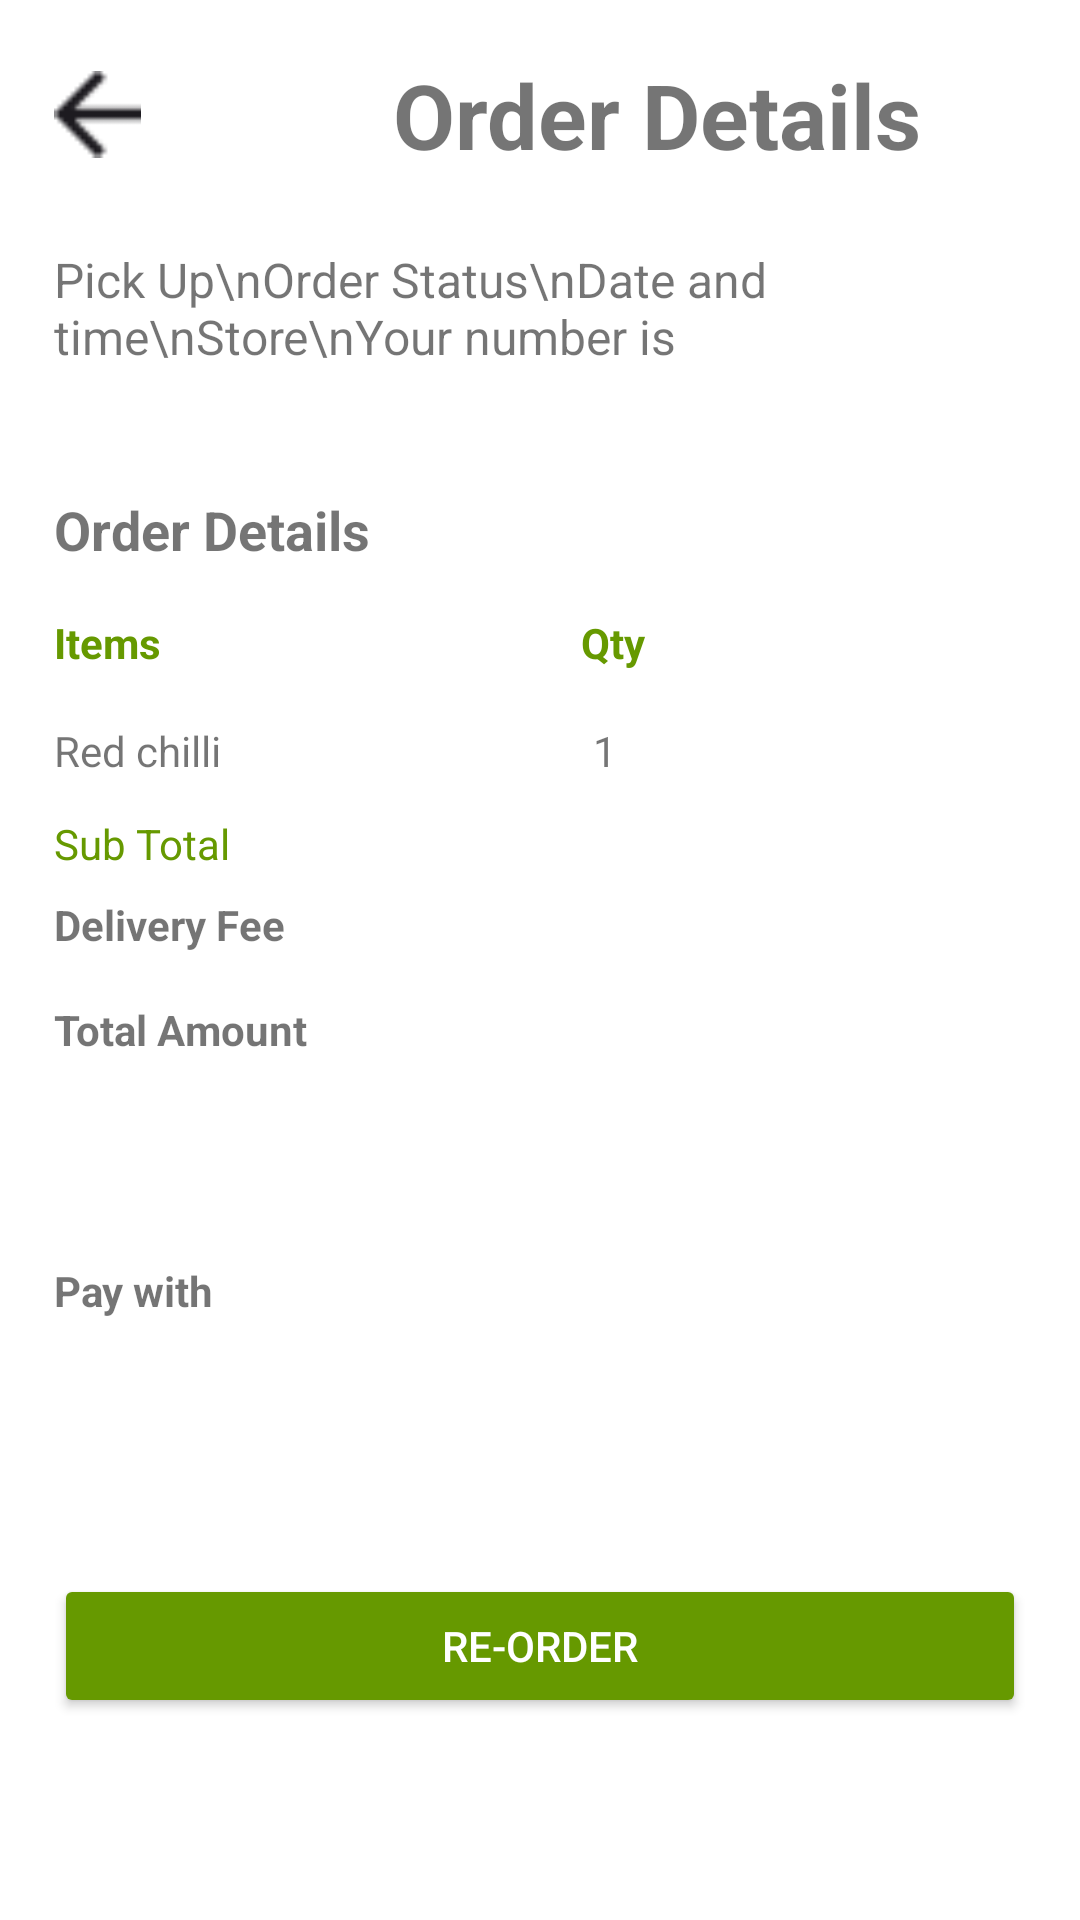

Icon bounding boxes for this 1080px x 1920px phone screenshot, format [x1=x1, y1=y1, x2=x2, y2=y2]:
back: [x1=54, y1=71, x2=141, y2=158]
